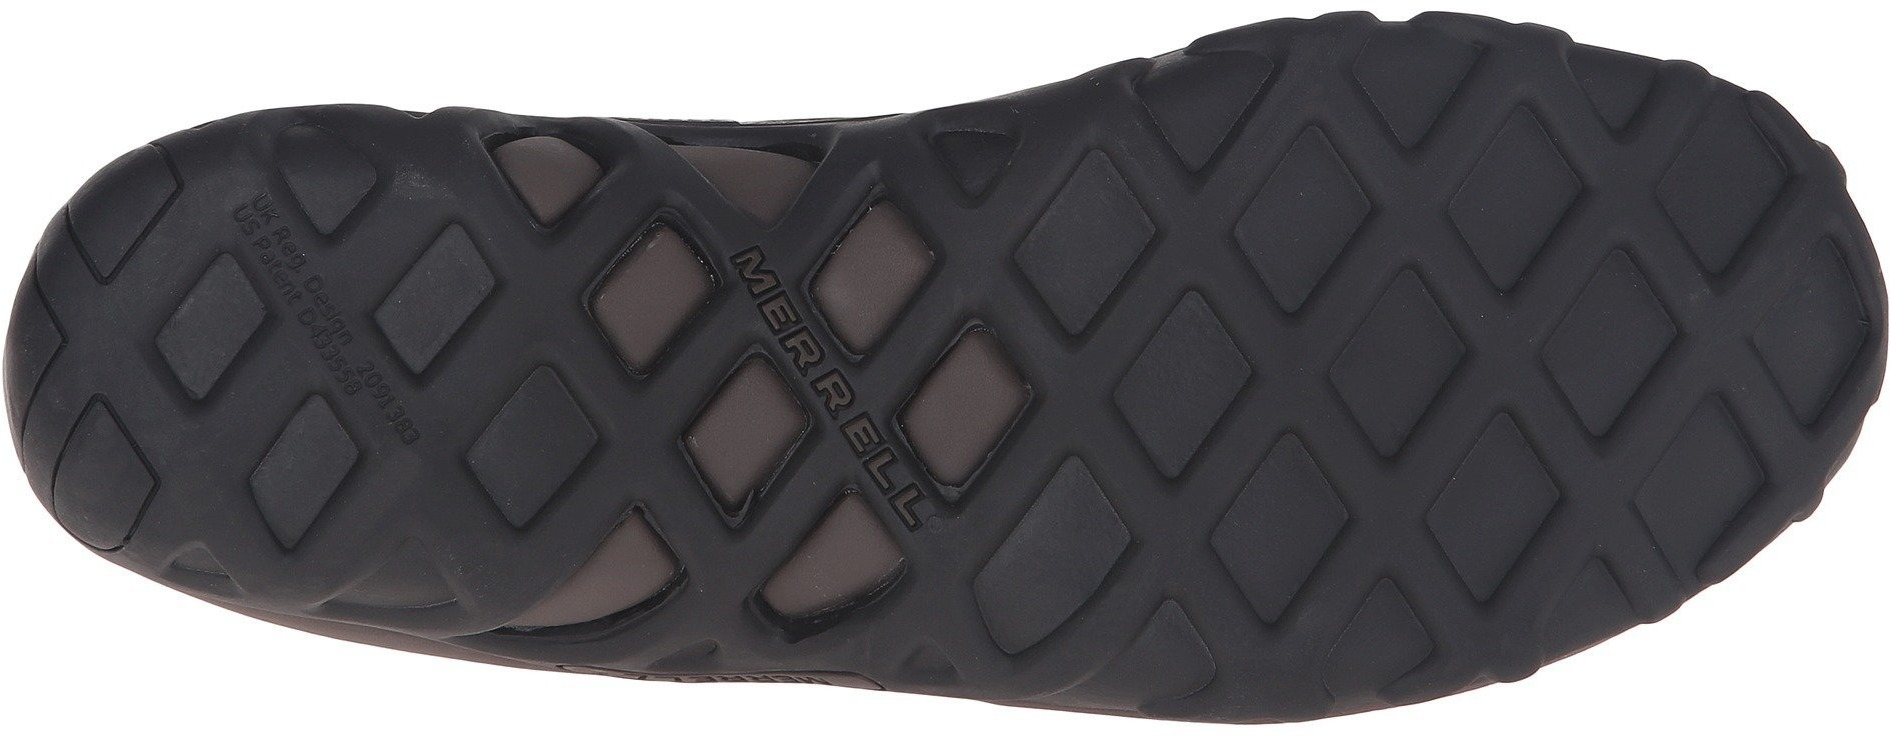exclude: (500, 0, 937, 125)
quad: (1348, 76, 1708, 431), (984, 113, 1327, 416), (425, 195, 725, 456), (1062, 425, 1327, 704), (16, 280, 267, 496), (1374, 445, 1591, 653)
text: (794, 343, 904, 438), (839, 448, 950, 540), (734, 239, 809, 329), (281, 256, 355, 331)
